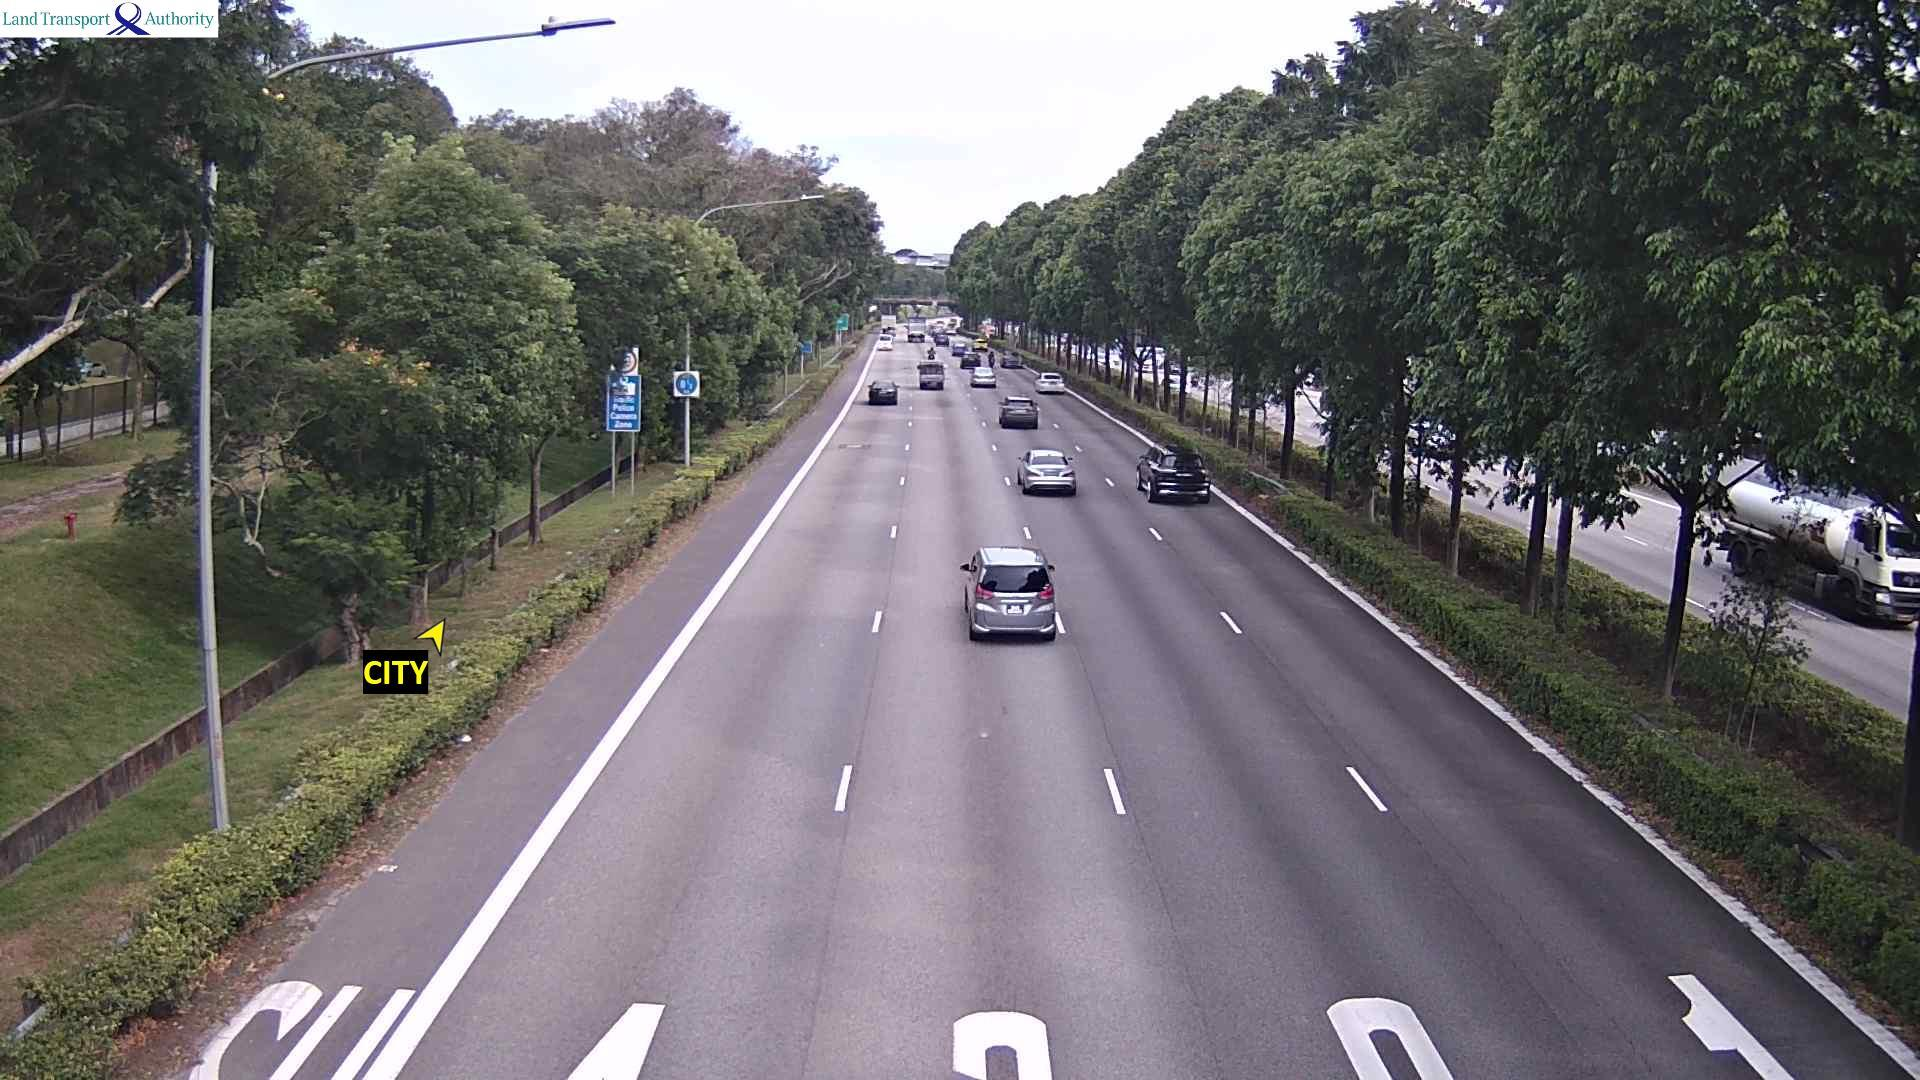cars: (1809, 501, 1917, 625), (959, 545, 1058, 642), (1695, 508, 1778, 578), (1135, 443, 1211, 502), (1014, 447, 1076, 495), (997, 393, 1039, 429), (866, 378, 897, 404), (1033, 371, 1065, 393), (969, 367, 996, 386), (949, 335, 969, 356), (959, 349, 980, 368), (1000, 351, 1022, 368), (876, 332, 893, 349), (972, 336, 990, 351), (935, 332, 949, 347)
motorcycle: (923, 344, 938, 360), (986, 351, 998, 369)
trucks: (1696, 473, 1917, 625), (916, 360, 944, 389), (907, 315, 927, 343), (880, 315, 898, 338)
